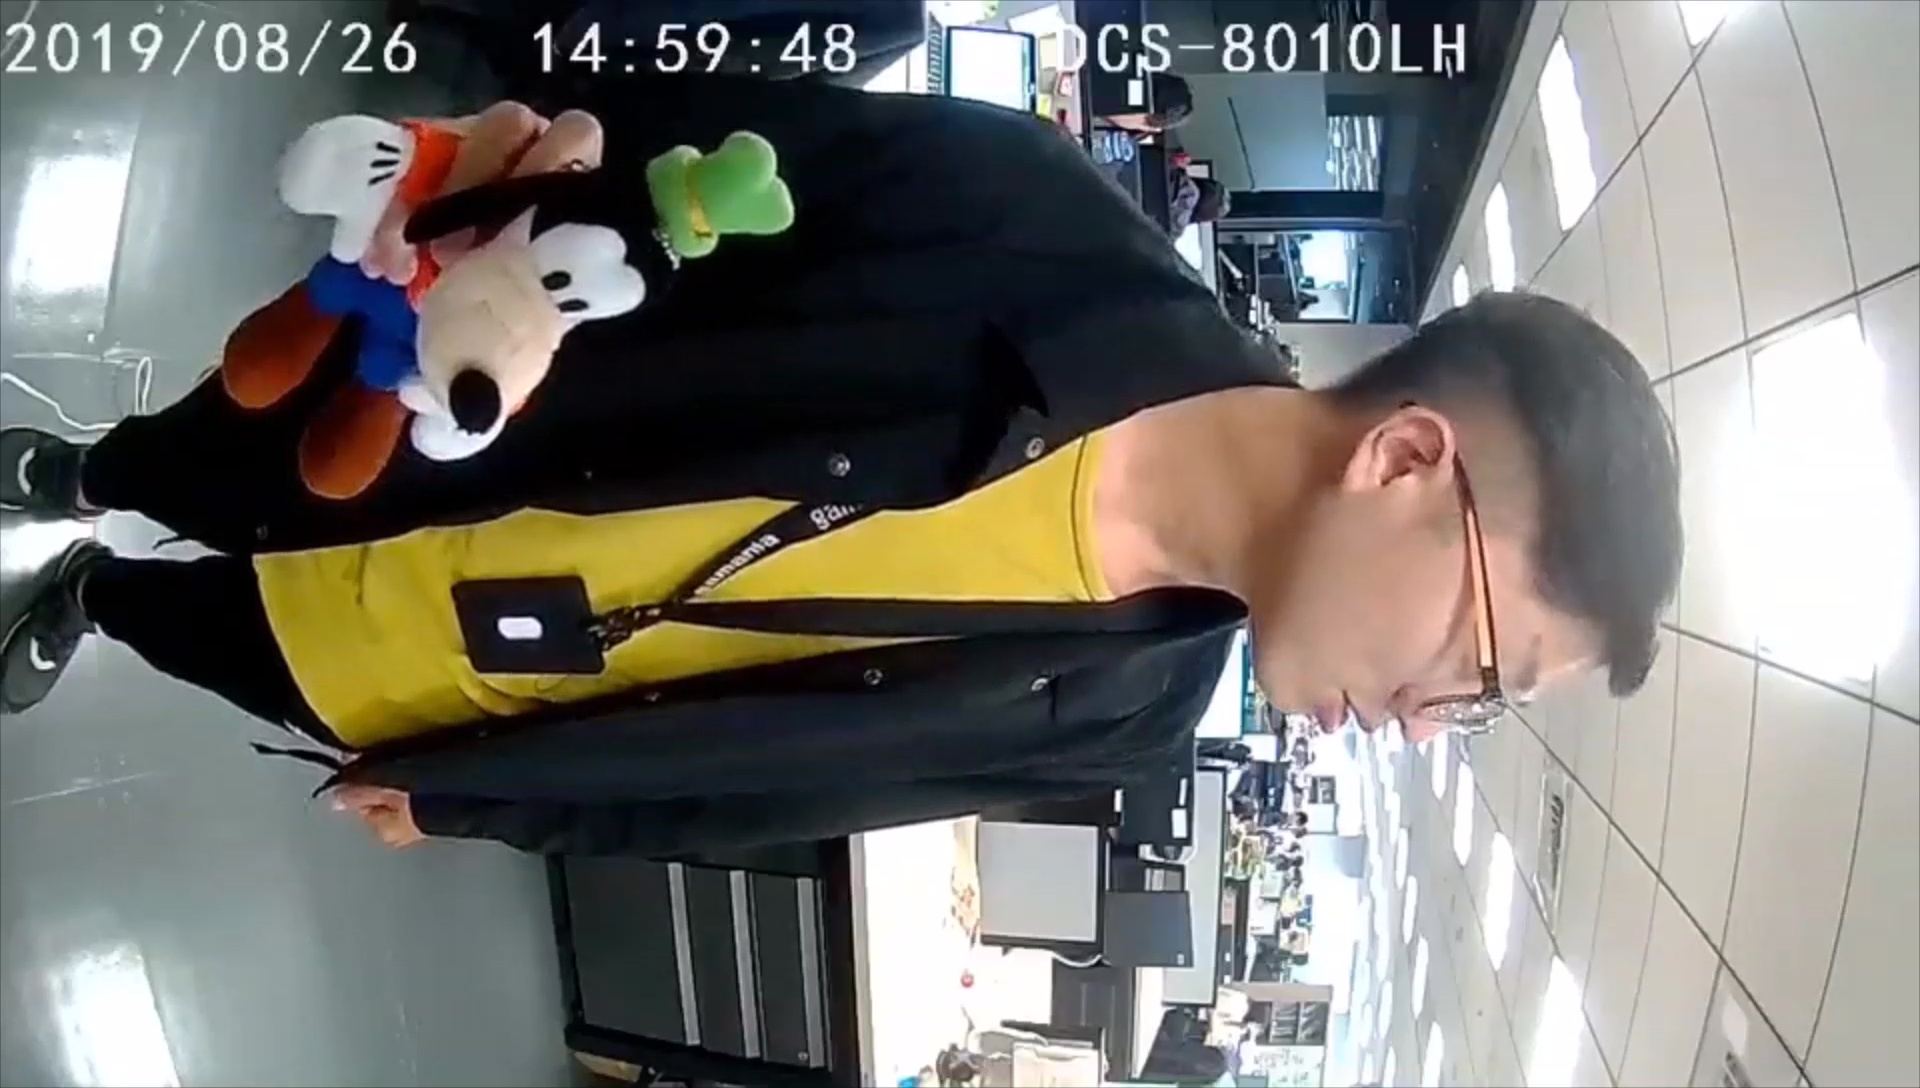goofy: (222, 116, 789, 497)
